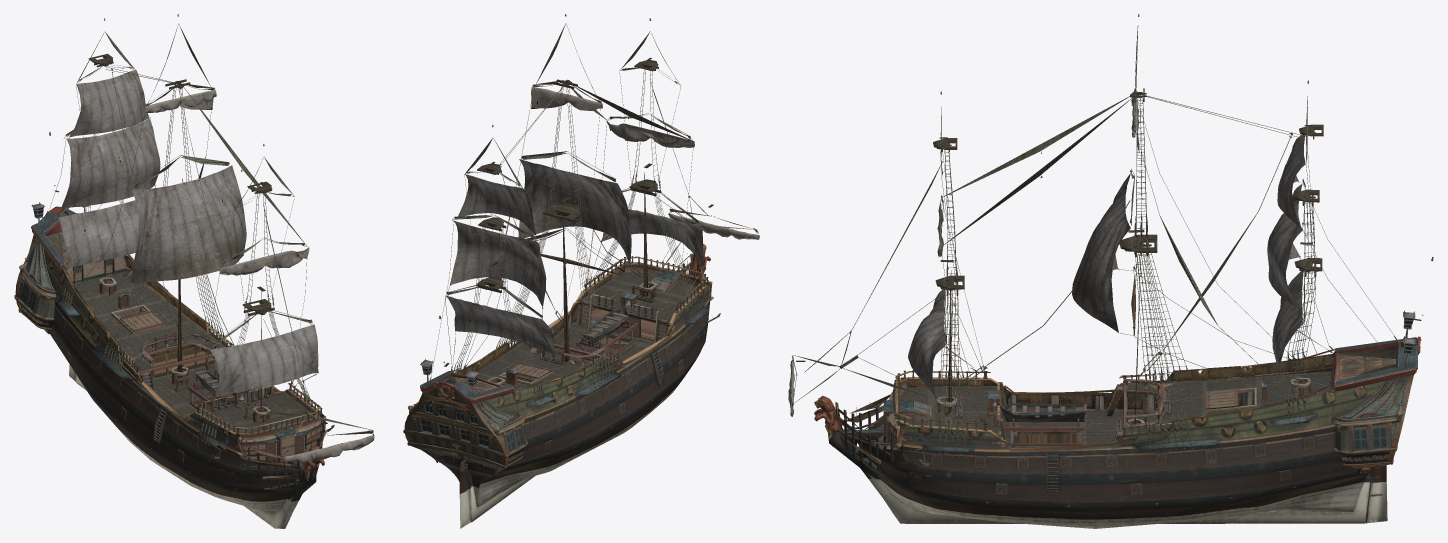
The model's file is ship_pinnace.glb.
The picture shows the model from 3 angles, left to right: view 1: azimuth 30°, elevation 25°; view 2: azimuth 150°, elevation 25°; view 3: azimuth 270°, elevation 25°; orthographic projection. The views are drawn at different scales.
Visible parts, largest first — view 1: ship_pinnace_sails, ship_pinnace_hull, ship_pinnace_deck, ship_pinnace_rigging, ship_pinnace_details, ship_pinnace_aft, ship_pinnace_interior; view 2: ship_pinnace_sails, ship_pinnace_hull, ship_pinnace_rigging, ship_pinnace_deck, ship_pinnace_aft, ship_pinnace_details, ship_pinnace_interior; view 3: ship_pinnace_hull, ship_pinnace_rigging, ship_pinnace_deck, ship_pinnace_sails, ship_pinnace_interior, ship_pinnace_aft, ship_pinnace_details.
Part boxes in pixels (x1=…): ship_pinnace_sails: x1=59, y1=69, x2=374, y2=462; ship_pinnace_hull: x1=43, y1=248, x2=327, y2=528; ship_pinnace_deck: x1=46, y1=212, x2=322, y2=469; ship_pinnace_rigging: x1=41, y1=14, x2=374, y2=474; ship_pinnace_details: x1=31, y1=202, x2=324, y2=481; ship_pinnace_aft: x1=14, y1=206, x2=79, y2=333; ship_pinnace_interior: x1=59, y1=235, x2=323, y2=481; ship_pinnace_sails: x1=445, y1=86, x2=759, y2=354; ship_pinnace_hull: x1=420, y1=253, x2=713, y2=528; ship_pinnace_rigging: x1=429, y1=14, x2=759, y2=409; ship_pinnace_deck: x1=444, y1=256, x2=708, y2=405; ship_pinnace_aft: x1=403, y1=371, x2=527, y2=476; ship_pinnace_details: x1=420, y1=244, x2=710, y2=395; ship_pinnace_interior: x1=432, y1=262, x2=709, y2=463; ship_pinnace_hull: x1=826, y1=349, x2=1387, y2=528; ship_pinnace_rigging: x1=792, y1=14, x2=1433, y2=466; ship_pinnace_deck: x1=862, y1=340, x2=1417, y2=461; ship_pinnace_sails: x1=788, y1=90, x2=1305, y2=416; ship_pinnace_interior: x1=865, y1=353, x2=1395, y2=483; ship_pinnace_aft: x1=1333, y1=336, x2=1421, y2=475; ship_pinnace_details: x1=814, y1=310, x2=1415, y2=493.
Size of the model in its own units: 9.53 by 32.55 by 37.44.
Materials: 7 (7 with a texture image).
